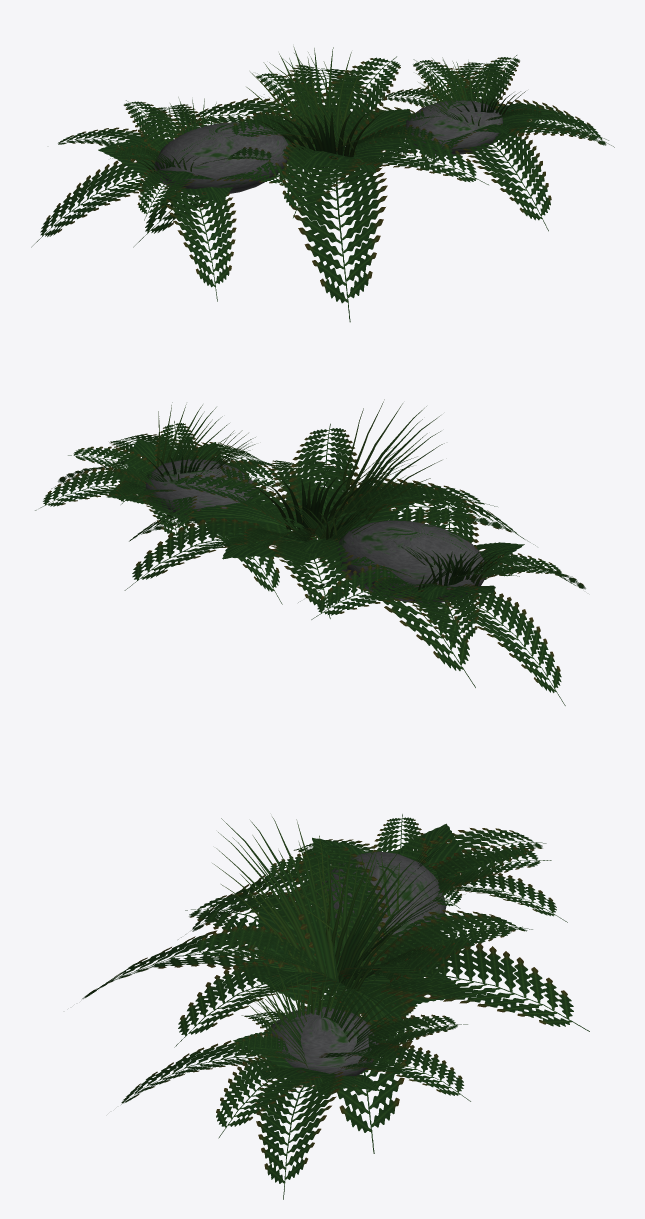
Rendered from Prop_WetFoliageCluster.fbx.
The picture shows the model from 3 angles, top to bottom: view 1: azimuth 30°, elevation 25°; view 2: azimuth 150°, elevation 25°; view 3: azimuth 270°, elevation 25°; orthographic projection. The views are drawn at different scales.
Parts seen in each view (by area): view 1: Prop_WetFoliageCluster; view 2: Prop_WetFoliageCluster; view 3: Prop_WetFoliageCluster.
Boxes of the visible parts, x1=… form: Prop_WetFoliageCluster: x1=31, y1=46, x2=614, y2=322; Prop_WetFoliageCluster: x1=35, y1=399, x2=585, y2=705; Prop_WetFoliageCluster: x1=82, y1=814, x2=589, y2=1199.
Size of the model in its own units: 1.56 by 0.5165 by 1.16.
